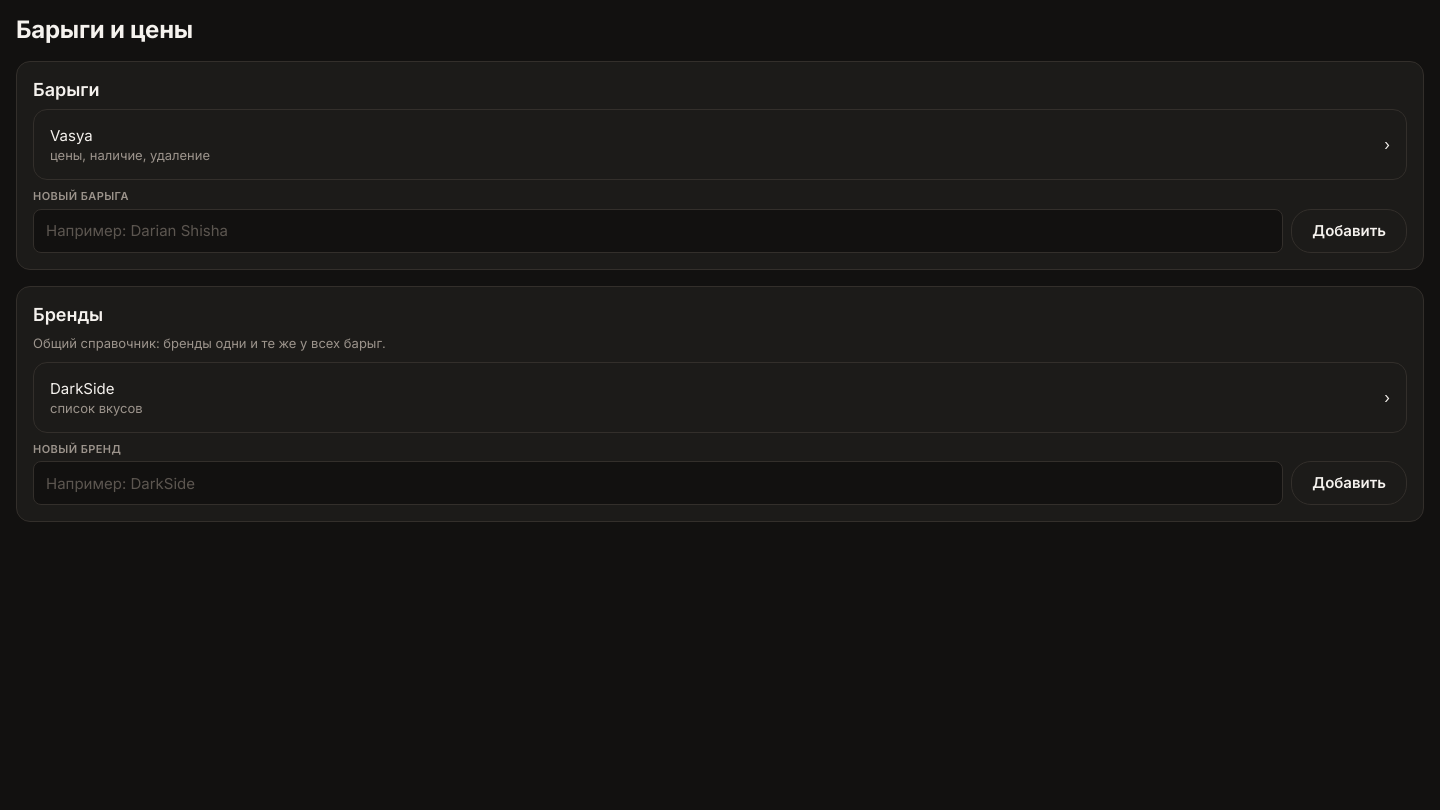
AdminCatalogPage › shows the error message when creating a vendor fails
Expected: the text "Vasya" is shown, x1=50 y1=126 x2=93 y2=145
Type "Kolya" into the field labelled "Новый барыга".
click(658, 231); type("Kolya")  # box x1=33 y1=209 x2=1283 y2=253
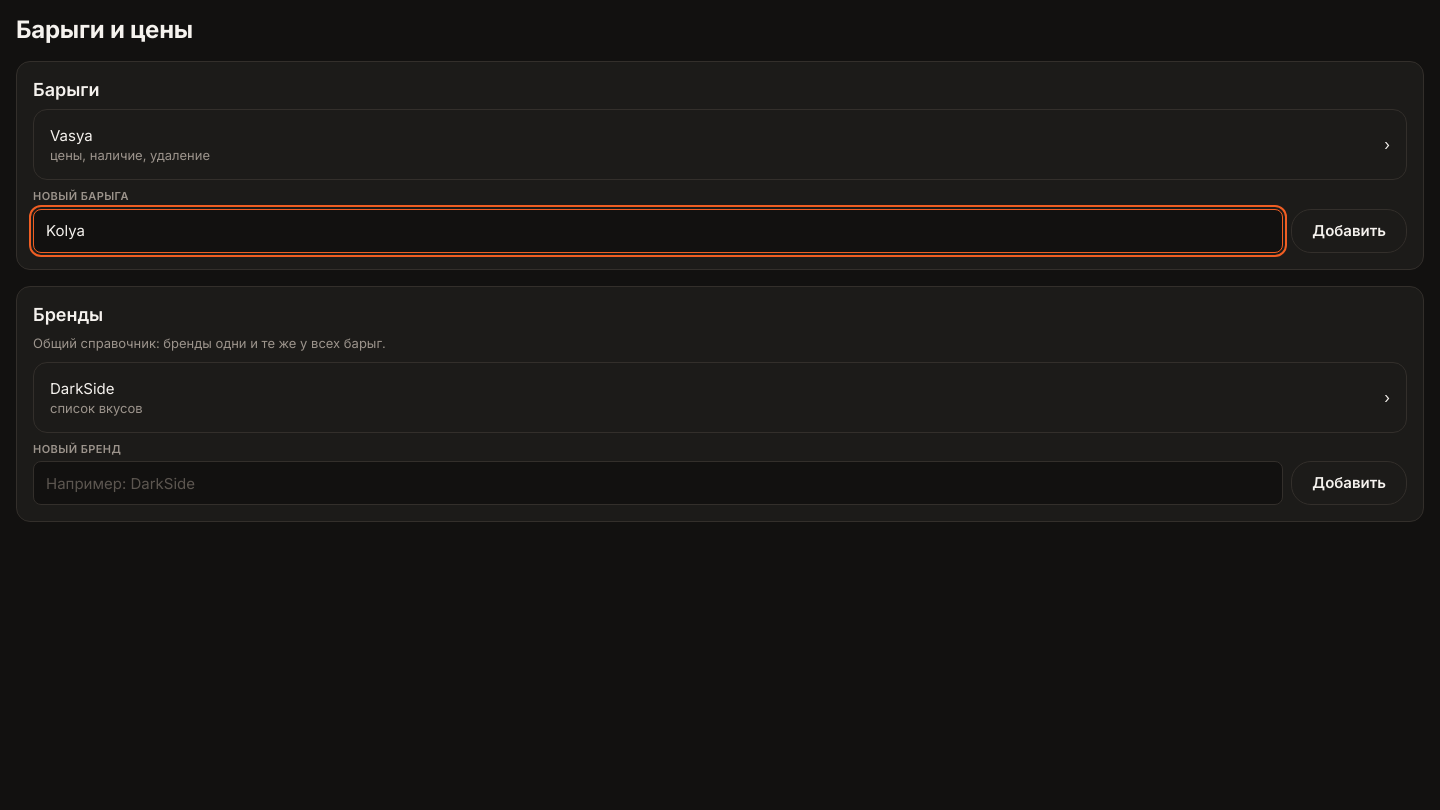
Click the 1st button "Добавить".
click(1349, 231)  # box x1=1291 y1=209 x2=1407 y2=253
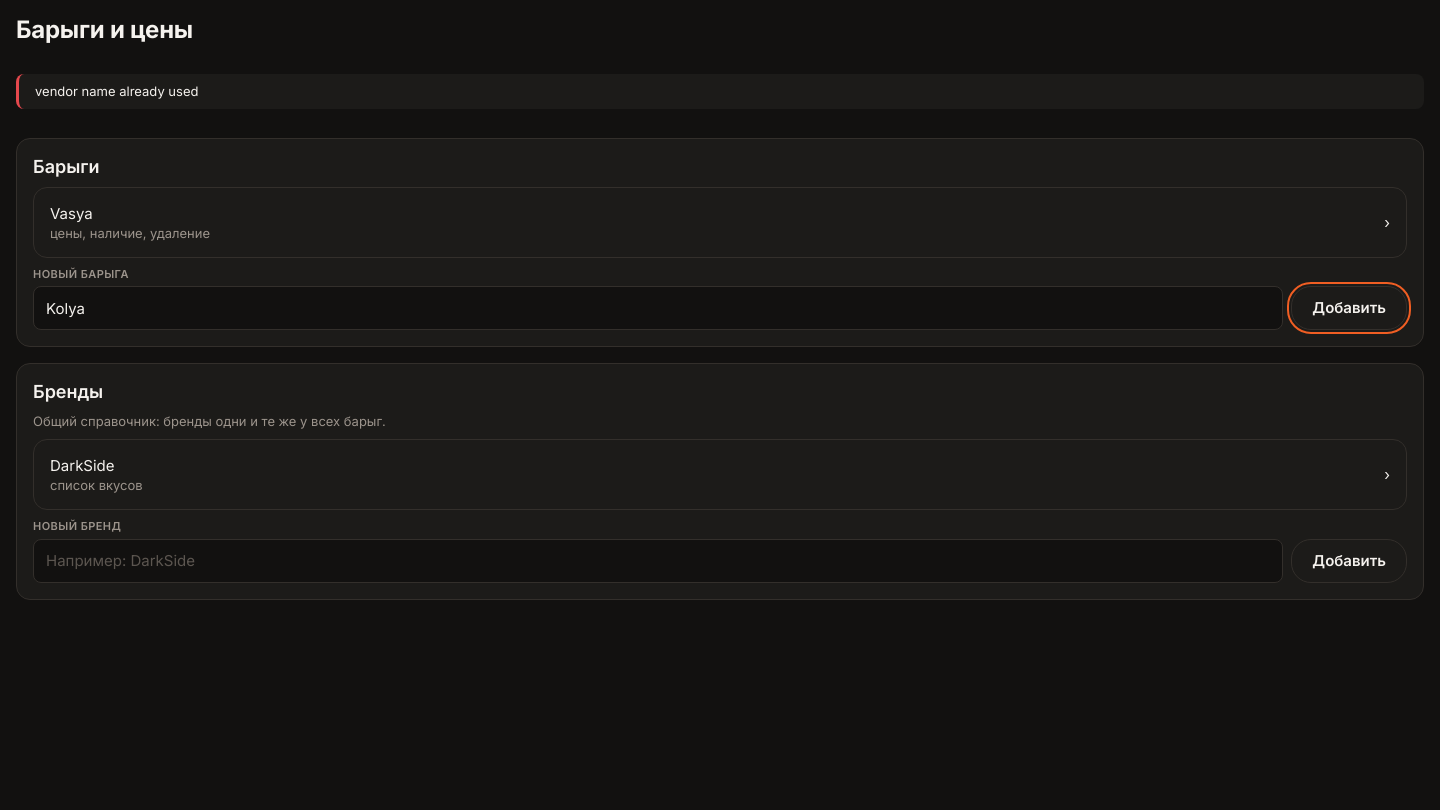
Now the message reads "vendor name already used", box x1=35 y1=83 x2=198 y2=99
